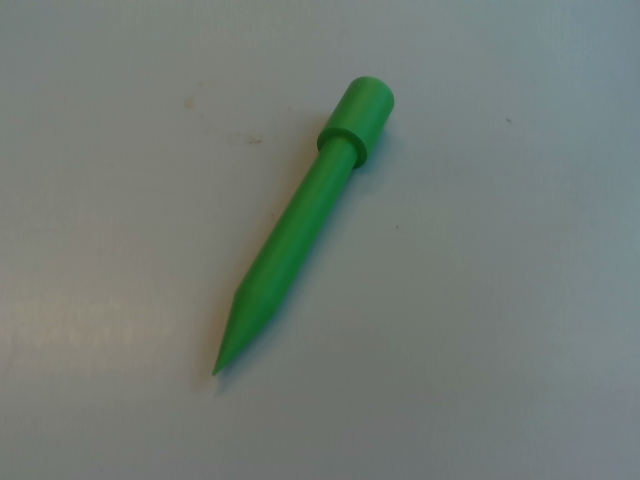Probe: (205, 71, 399, 387)
